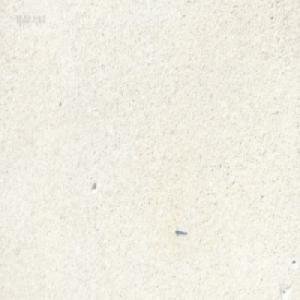Nail: (175, 228, 187, 236)
